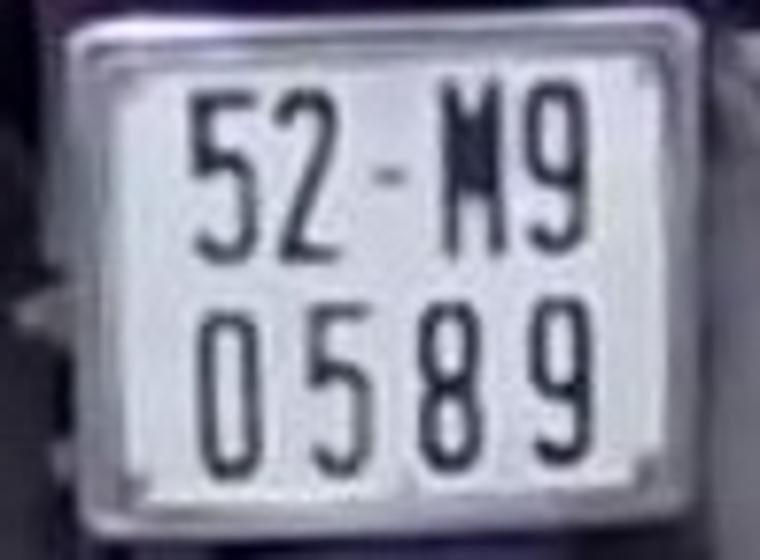-: (367, 156, 414, 193)
0: (197, 307, 269, 490)
2: (267, 84, 357, 269)
5: (182, 82, 266, 271), (301, 295, 380, 485)
8: (419, 292, 490, 476)
9: (520, 72, 598, 266), (521, 292, 601, 478)
M: (422, 72, 517, 262)
